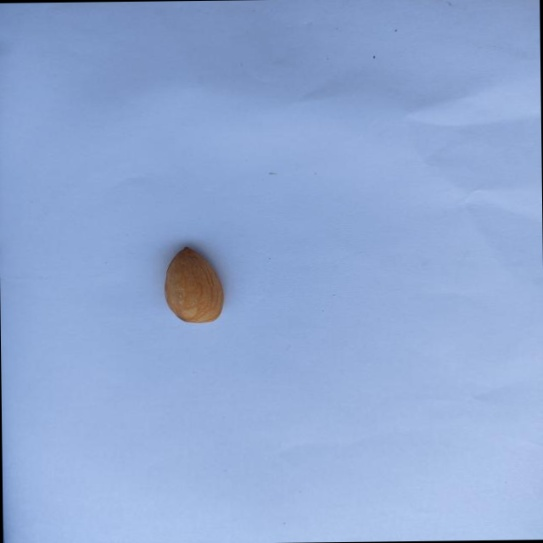grade2: (161, 244, 230, 326)
